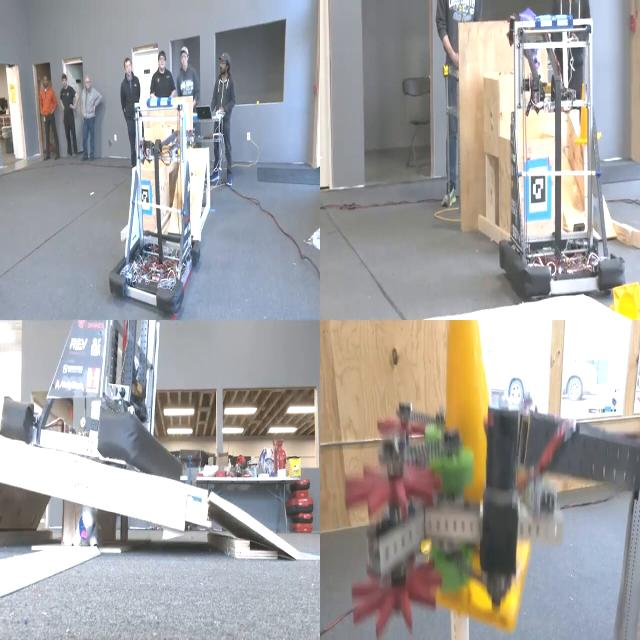frc_cone: (416, 307, 531, 640), (571, 81, 604, 148), (607, 276, 640, 326)
